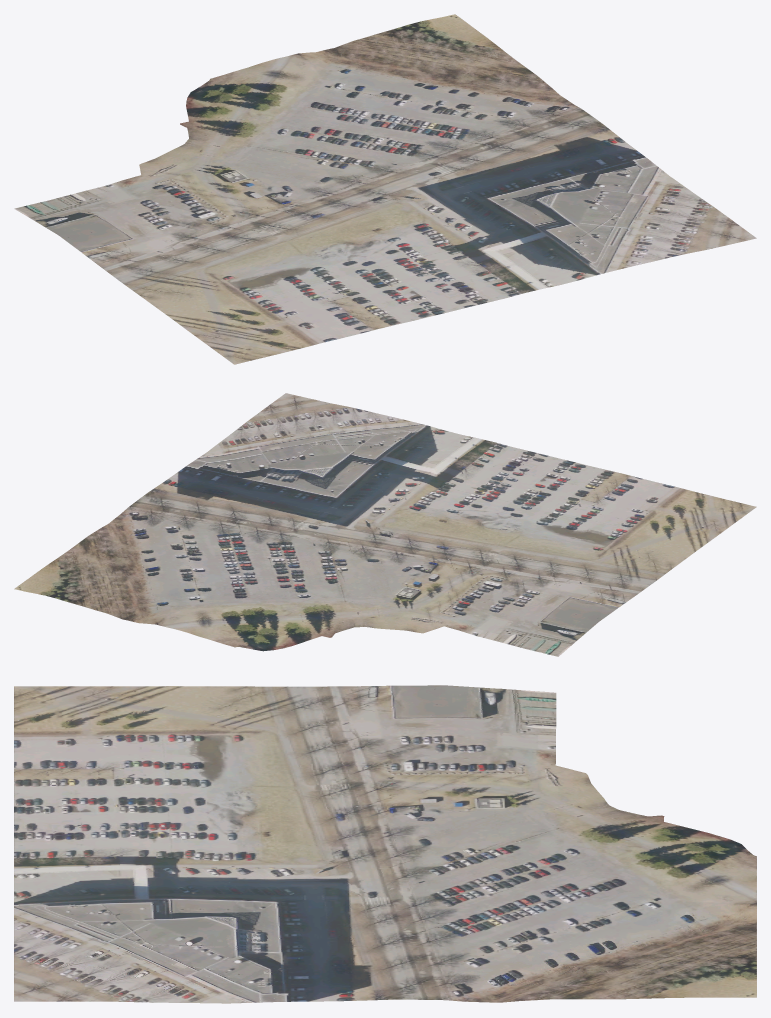
The model's file is CM_Terrain_24487182_6819589.fbx.
3 renders of one model, top to bottom at view 1: azimuth 30°, elevation 25°; view 2: azimuth 150°, elevation 25°; view 3: azimuth 270°, elevation 25°, orthographic. The views are drawn at different scales.
Parts seen in each view (by area): view 1: CM_Terrain_24487182_6819589_LOD0; view 2: CM_Terrain_24487182_6819589_LOD0; view 3: CM_Terrain_24487182_6819589_LOD0.
Part boxes in pixels (x1,y1,x2,y2): CM_Terrain_24487182_6819589_LOD0: [14, 14, 756, 364]; CM_Terrain_24487182_6819589_LOD0: [14, 393, 756, 656]; CM_Terrain_24487182_6819589_LOD0: [14, 685, 756, 1003].
Size of what is drawn, in the model's own units: 205 by 4.15 by 205.
